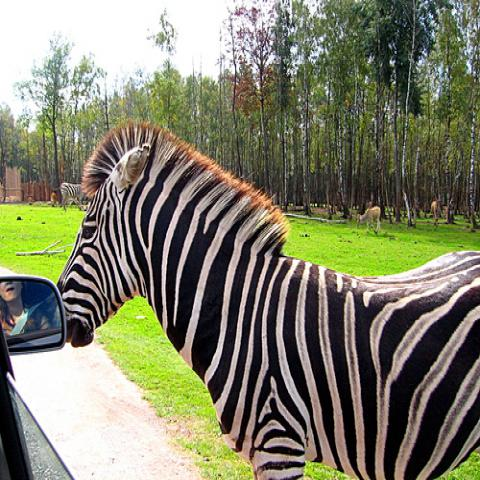car: (2, 275, 67, 471)
